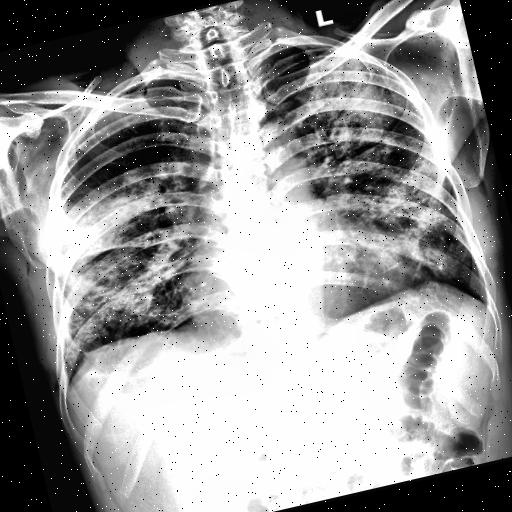1- Atelectasis: (38, 200, 126, 276)
13- Pulmonary fibrosis: (30, 158, 224, 382), (290, 77, 464, 308)
3- Cardiomegaly: (178, 216, 418, 348), (174, 213, 414, 341)
4- Consolidation: (283, 33, 457, 304), (34, 179, 209, 357), (296, 37, 398, 153), (44, 177, 162, 267), (356, 166, 448, 242), (38, 200, 126, 276)
5- ILD: (44, 177, 162, 267)
6- Infiltration: (286, 33, 464, 303), (20, 146, 224, 368)
7- Lung Opacity: (283, 33, 457, 304), (34, 179, 209, 357)
8- Nodule-Mass: (38, 200, 126, 276)
